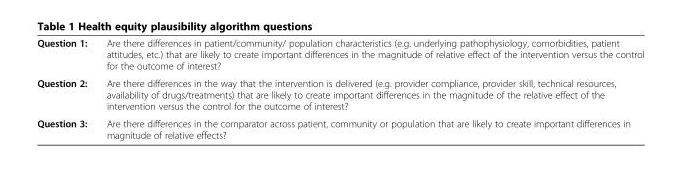table: (36, 36, 643, 140)
table column: (96, 36, 643, 140), (36, 36, 96, 140)
table row: (36, 74, 643, 114), (36, 36, 643, 74), (36, 114, 643, 140)
